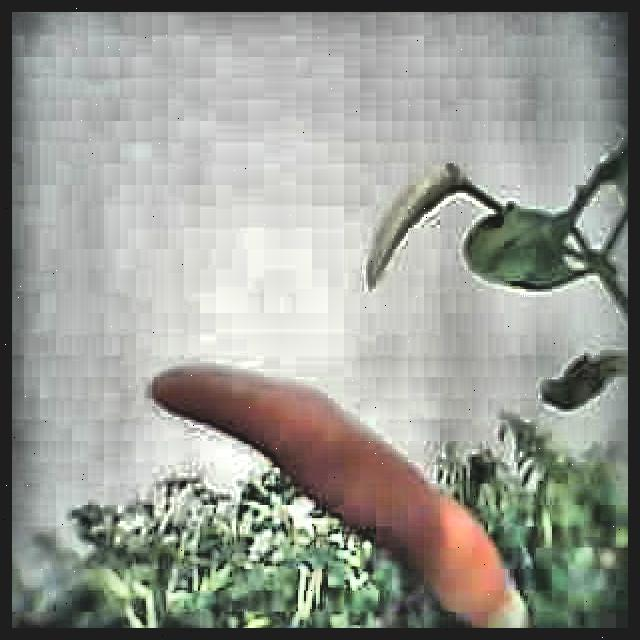Cabai: (142, 345, 526, 628)
